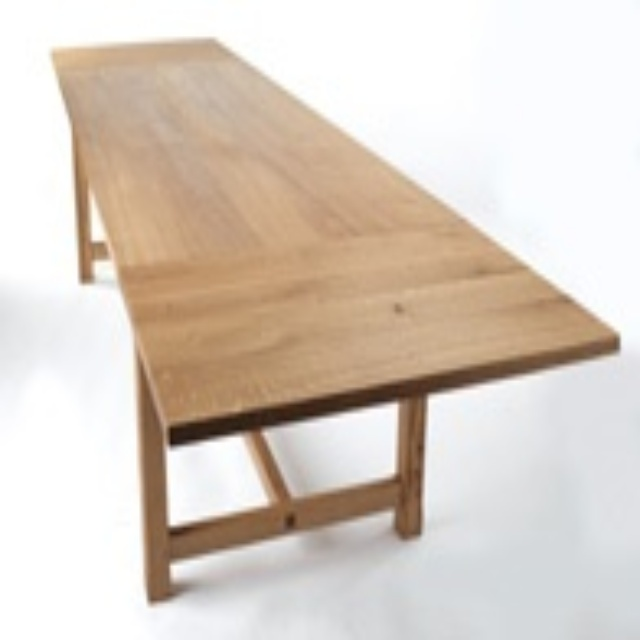obstacle: (52, 38, 617, 597)
